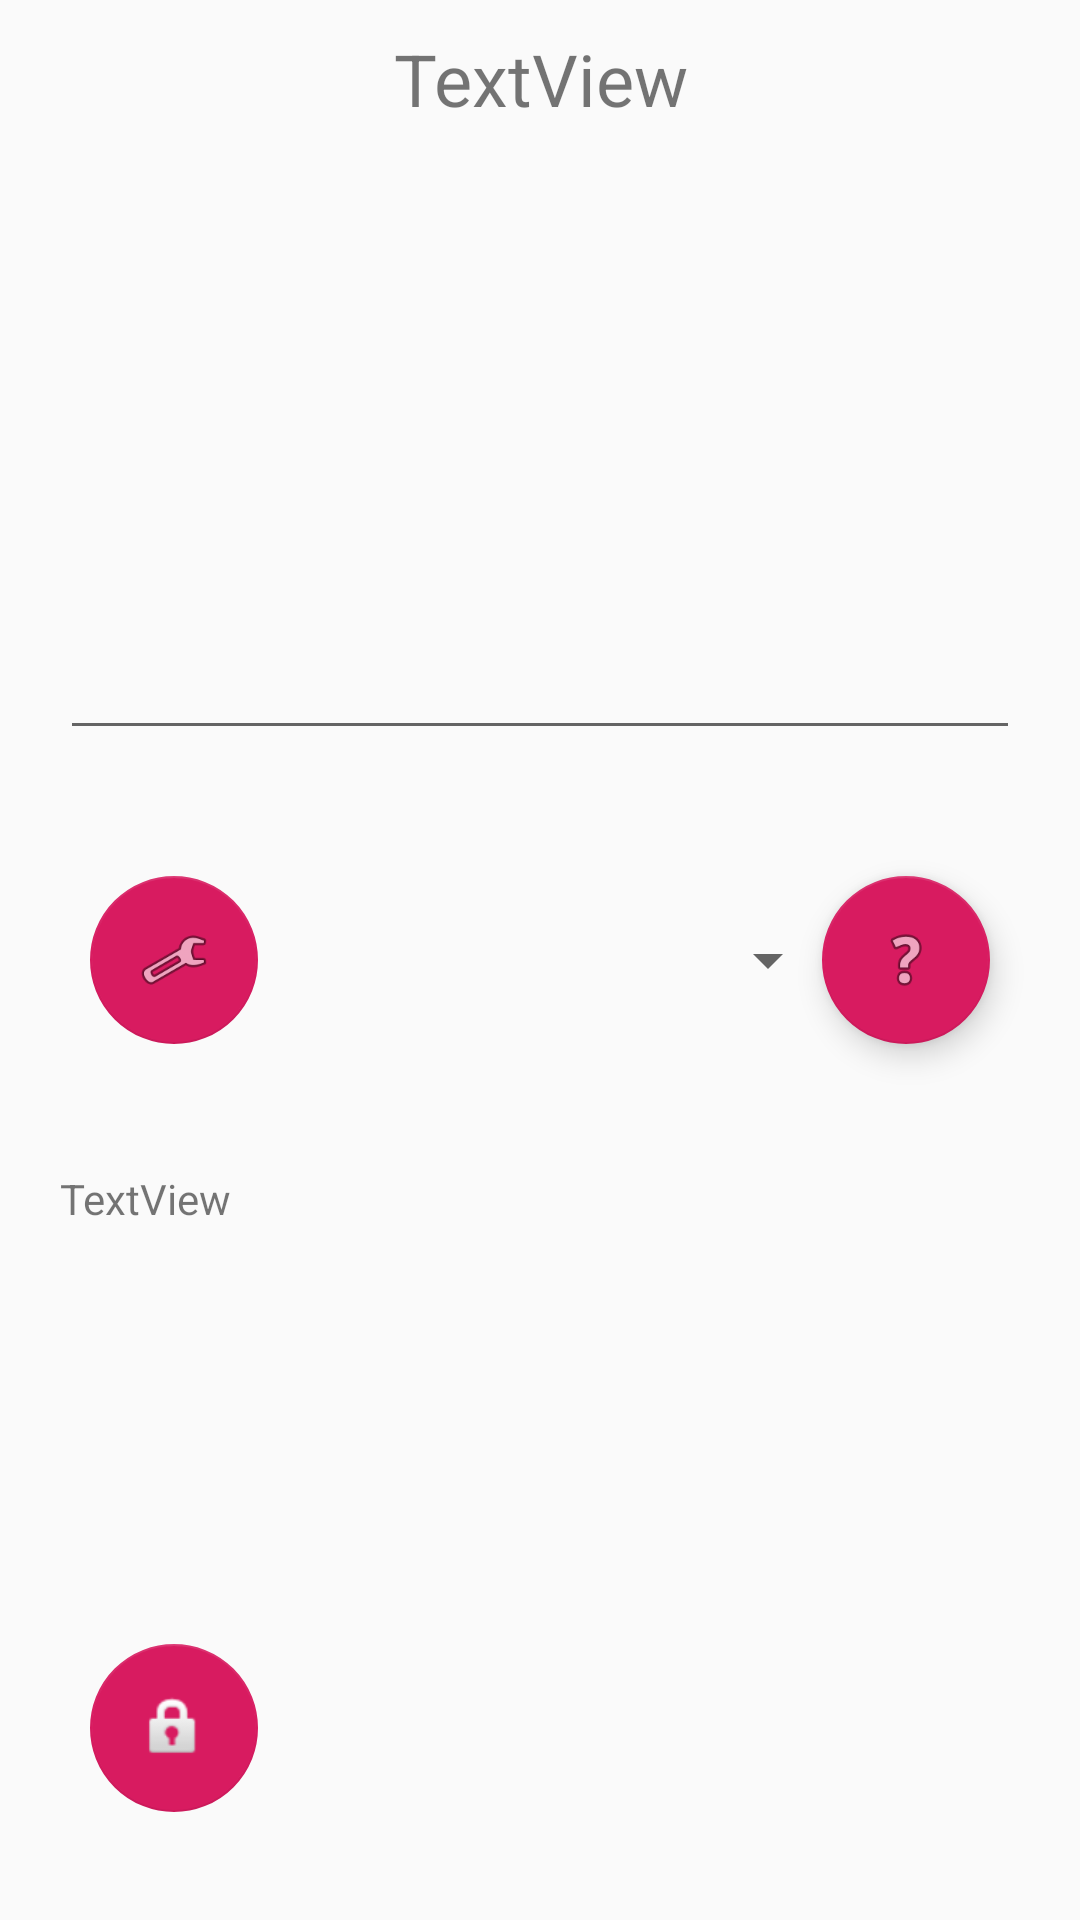

Where icons sit on this 1080w x 1920h app screen, as [x1, y1, x2, y2]:
help: [822, 876, 990, 1044]
lock idle: [90, 1644, 258, 1812]
manage: [90, 876, 258, 1044]
